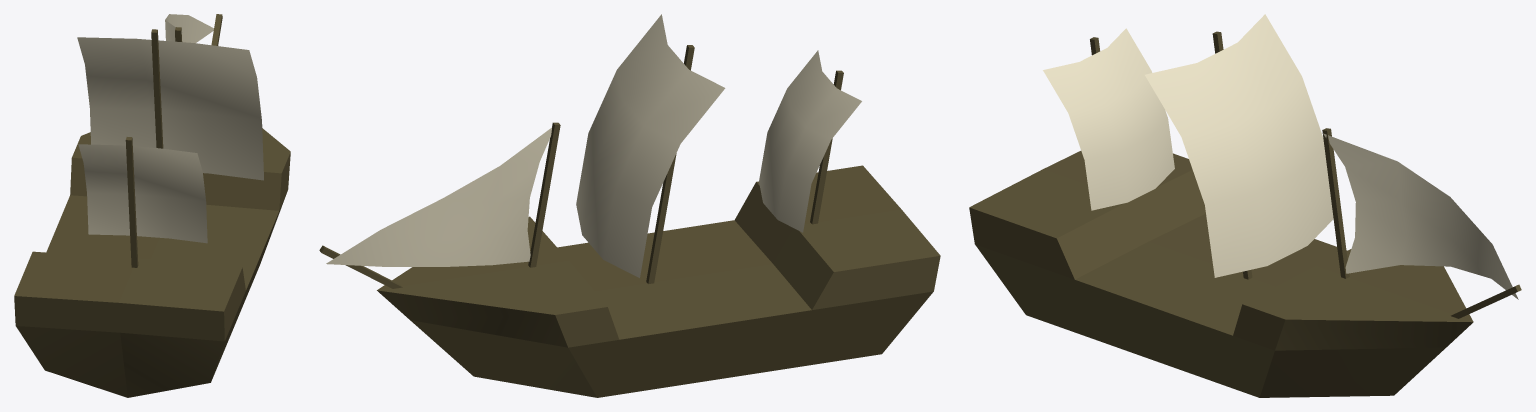
The model's file is boat.FBX.
3 views of the same model, side by side, from view 1: azimuth 30°, elevation 25°; view 2: azimuth 150°, elevation 25°; view 3: azimuth 270°, elevation 25° (orthographic). The views are drawn at different scales.
Visible parts, largest first — view 1: Boat; view 2: Boat; view 3: Boat.
Part boxes in pixels (x1=…): Boat: x1=14, y1=14, x2=290, y2=397; Boat: x1=319, y1=14, x2=940, y2=397; Boat: x1=969, y1=14, x2=1521, y2=397.
Bounding box in the file's own units: 78.76 × 57.19 × 88.74.
Materials: 1 (1 with a texture image).
